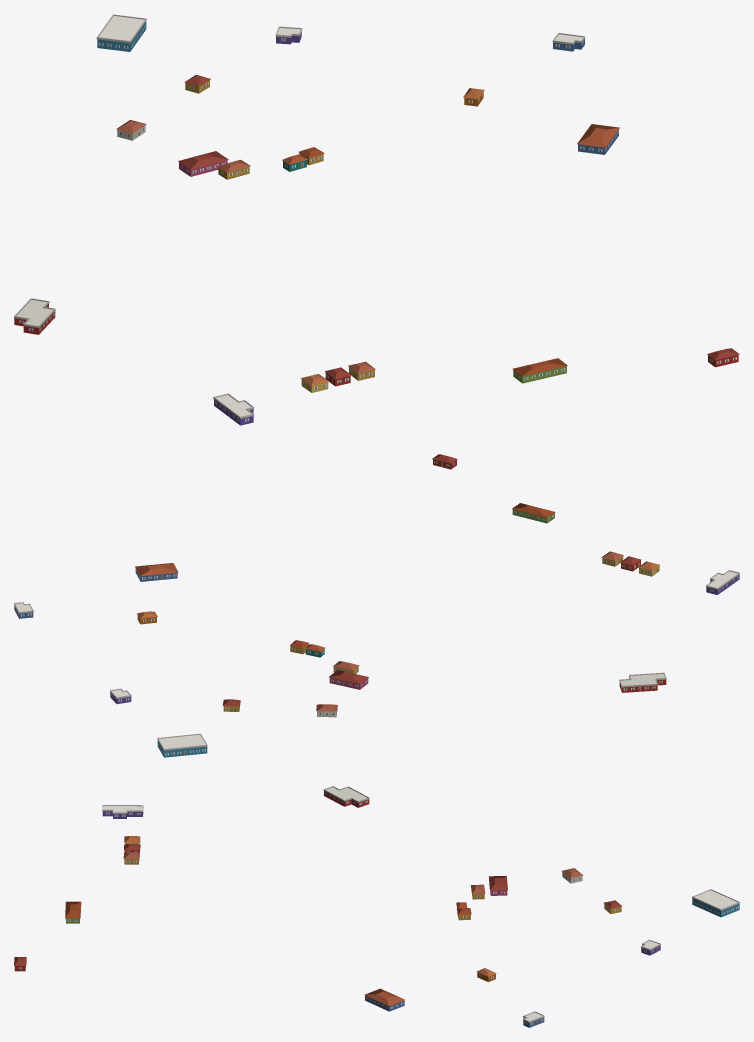
File: msb_oranjestad_m16_m1.glb
The picture shows the model from 3 angles, top to bottom: view 1: azimuth 30°, elevation 25°; view 2: azimuth 150°, elevation 25°; view 3: azimuth 270°, elevation 25°; orthographic projection. The views are drawn at different scales.
Visible parts, largest first — view 1: msb_oranjestad_m16_m1_lod0; view 2: msb_oranjestad_m16_m1_lod0; view 3: msb_oranjestad_m16_m1_lod0.
Boxes of the visible parts, left/top/right/bottom form: msb_oranjestad_m16_m1_lod0: left=14, top=14, right=739, bottom=425; msb_oranjestad_m16_m1_lod0: left=14, top=454, right=739, bottom=757; msb_oranjestad_m16_m1_lod0: left=14, top=786, right=739, bottom=1027.
Size of what is drawn, in the model's own units: 331 by 14.42 by 403.
3 materials, 1 textured.
